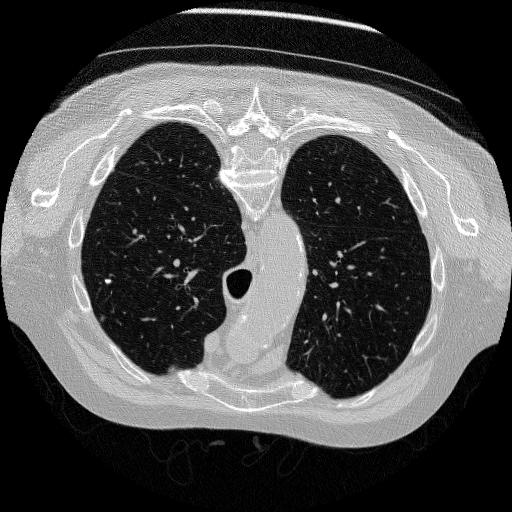nodule: (102, 276, 113, 287)
